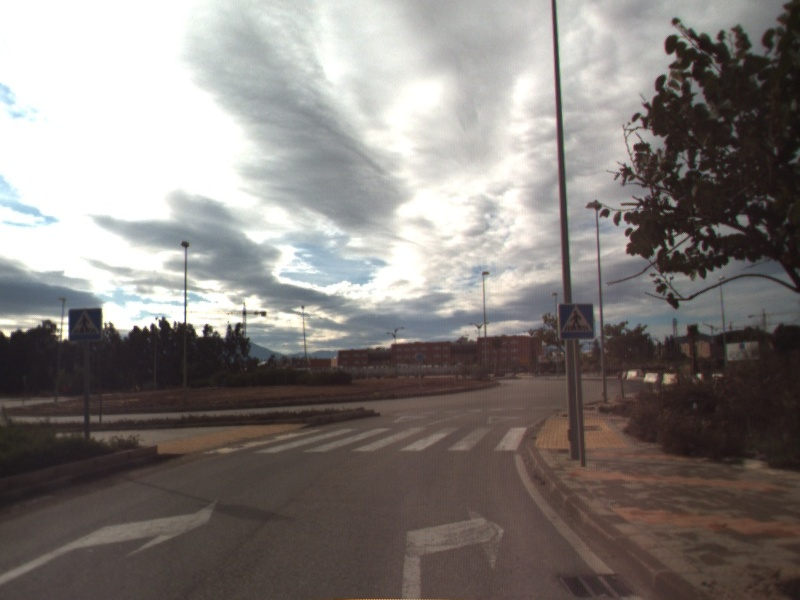RIGHT: (1, 495, 220, 585), (395, 500, 507, 600)
